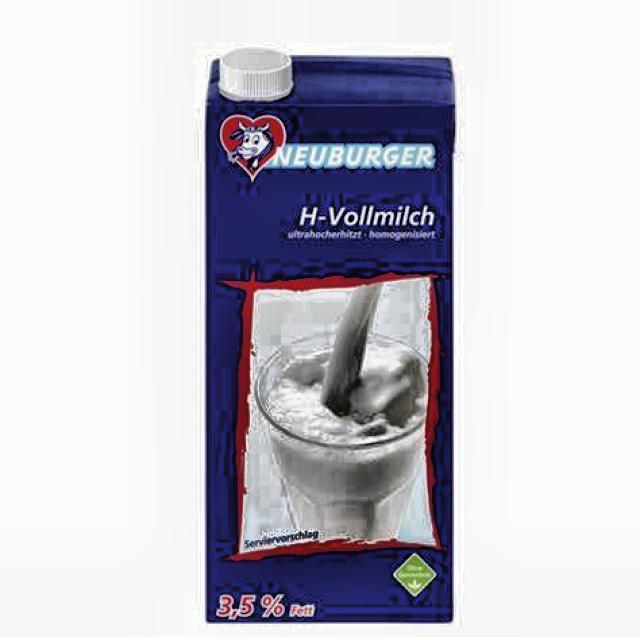cardboard: (202, 48, 456, 622)
